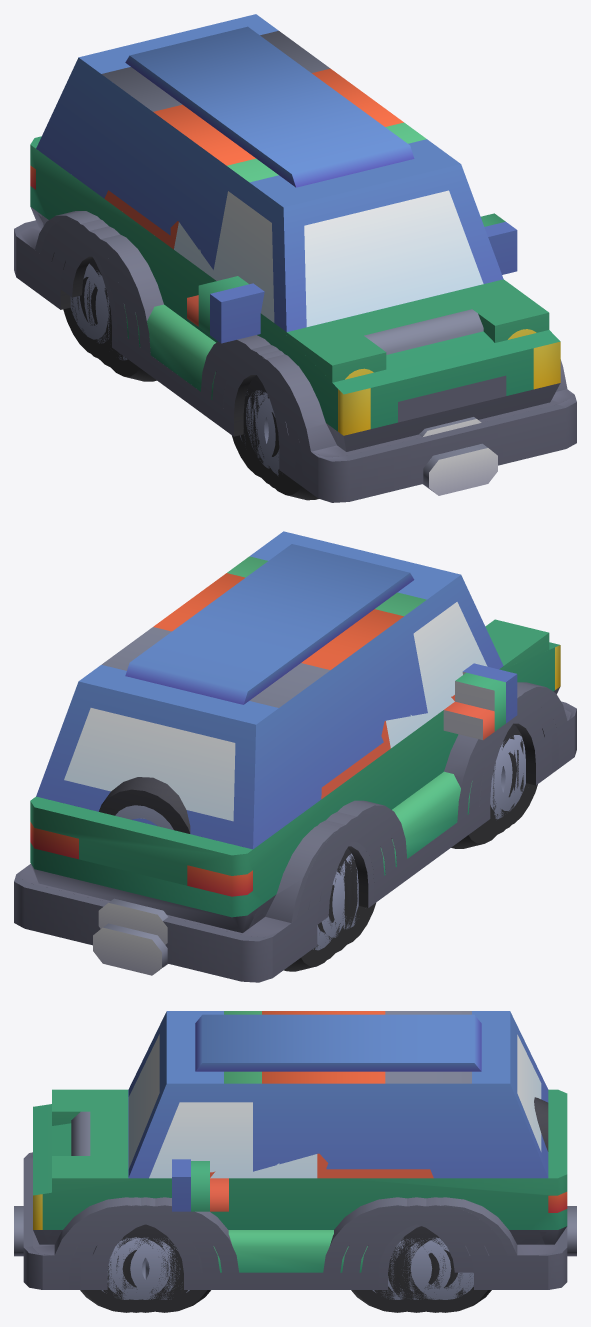
File: cars.glb
3 views of the same model, one above another, from view 1: azimuth 30°, elevation 25°; view 2: azimuth 150°, elevation 25°; view 3: azimuth 270°, elevation 25° (orthographic). The views are drawn at different scales.
Parts seen in each view (by area): view 1: body (×5), wheel-front-right (×4), wheel-back-right (×4); view 2: body (×5), wheel-front-right (×5), wheel-back-right (×4), wheel-back; view 3: body (×5), wheel-front-left (×5), wheel-back-left (×4), wheel-back.
Part boxes in pixels (x1=…): body (×5): x1=14, y1=14, x2=576, y2=502; wheel-front-right (×4): x1=232, y1=375, x2=318, y2=500; wheel-back-right (×4): x1=63, y1=258, x2=156, y2=381; body (×5): x1=14, y1=531, x2=576, y2=982; wheel-front-right (×5): x1=451, y1=724, x2=537, y2=848; wheel-back-right (×4): x1=283, y1=848, x2=375, y2=971; wheel-back: x1=99, y1=777, x2=190, y2=833; body (×5): x1=14, y1=1011, x2=576, y2=1289; wheel-front-left (×5): x1=80, y1=1224, x2=210, y2=1312; wheel-back-left (×4): x1=351, y1=1226, x2=491, y2=1312; wheel-back: x1=534, y1=1097, x2=548, y2=1151.
Bounding box in the file's own units: 1.5 × 1.35 × 2.95.
Materials: 1 (1 with a texture image).
